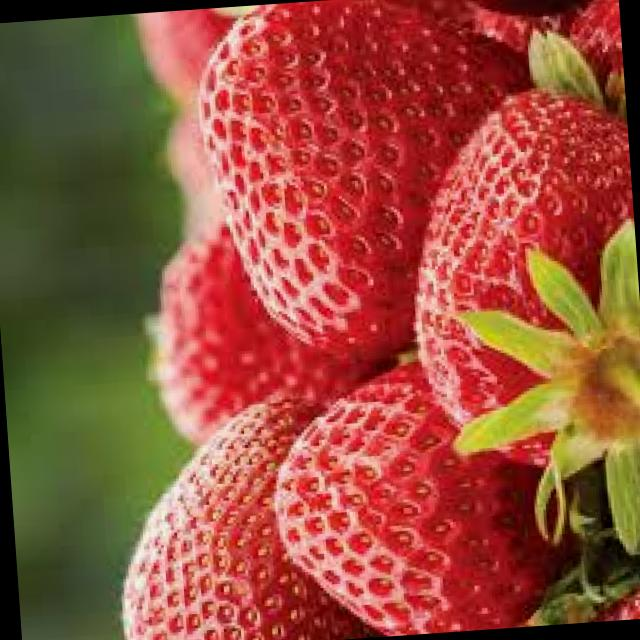strawberry: (193, 0, 523, 373), (399, 86, 640, 499), (258, 360, 558, 640)
